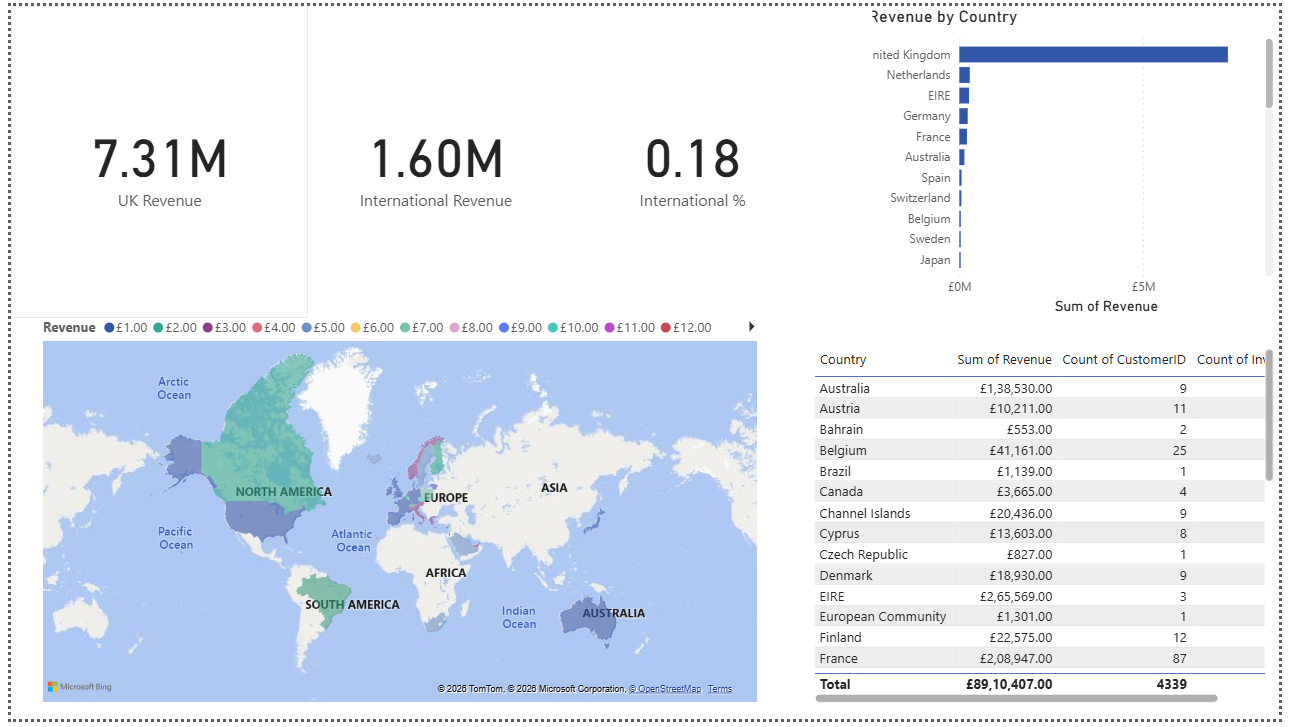

What the dashboard file says about the page in this screenshot:
{"tool":"powerbi","page":{"name":"Geographic Analysis","canvas":[1280,720],"ordinal":4},"visuals":[{"type":"filledMap","fields":{"Category":["data.Country"],"Series":["data.Revenue"]},"box":[58.9,296.1,730.1,423],"z":0},{"type":"clusteredBarChart","fields":{"Category":["data.Country"],"Y":["Sum(data.Revenue)"]},"box":[805,0,475,315],"z":1000},{"type":"card","fields":{"Values":["data.UK Revenue"]},"box":[0,0,299.8,314.5],"z":2000},{"type":"card","fields":{"Values":["data.International Revenue"]},"box":[321.8,0,215.2,314.5],"z":3000},{"type":"card","fields":{"Values":["data.International %"]},"box":[505.8,0,364.1,314.5],"z":4000},{"type":"tableEx","fields":{"Values":["data.Country","Sum(data.Revenue)","Count(data.CustomerID)","data.InvoiceNo"]},"box":[805.5,340.2,474.5,367.8],"z":5000}]}

Visuals, with their boxes in screenshot pixels (x1, y1, x2, y2), scaled from the page's 1280x720 canvas onto the 1291x727 screenshot:
filledMap - data.Country x data.Revenue: 59, 299, 796, 726
clusteredBarChart - data.Country x Sum(data.Revenue): 812, 0, 1290, 318
card - data.UK Revenue: 0, 0, 302, 318
card - data.International Revenue: 325, 0, 542, 318
card - data.International %: 510, 0, 877, 318
tableEx - data.Country x Sum(data.Revenue): 812, 344, 1290, 715
